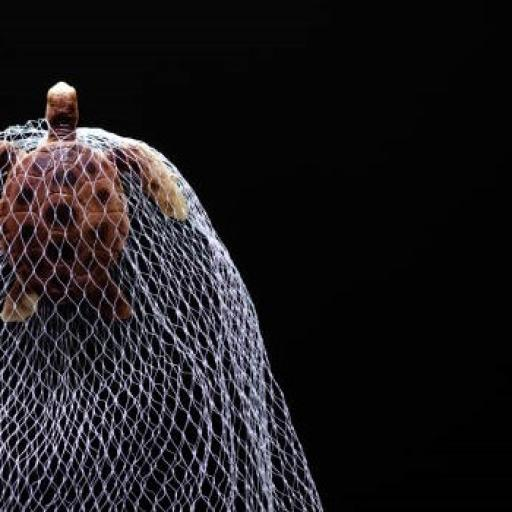net: (2, 162, 328, 512)
